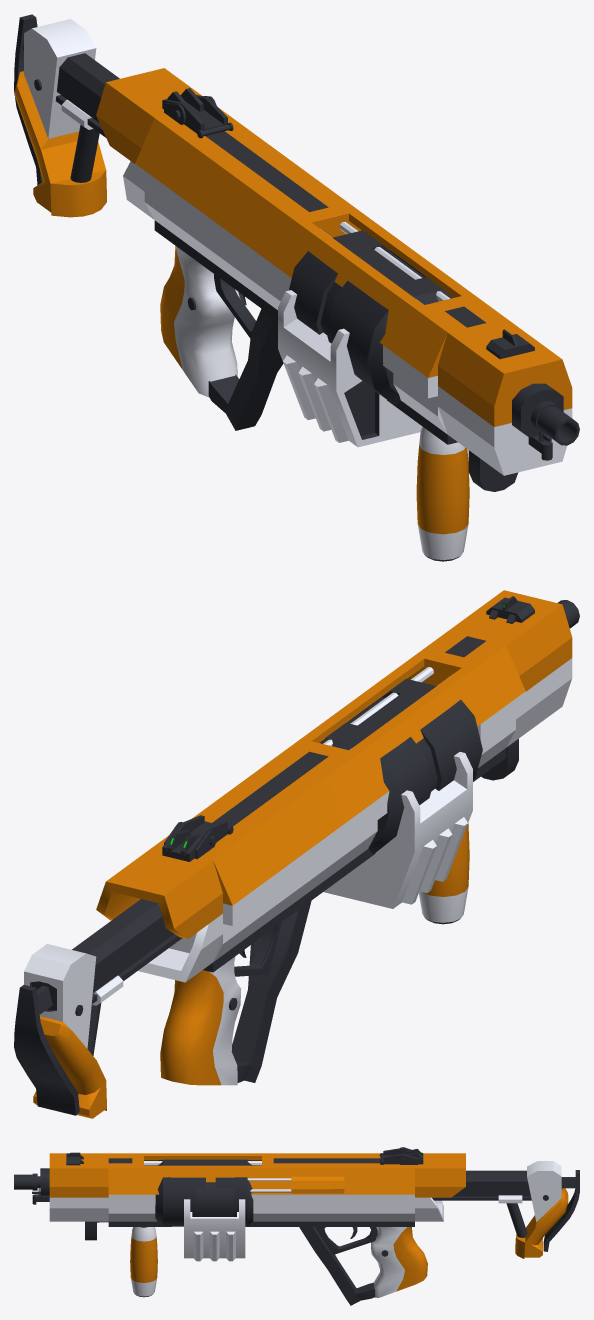
3 renders of one model, top to bottom at view 1: azimuth 30°, elevation 25°; view 2: azimuth 150°, elevation 25°; view 3: azimuth 270°, elevation 25°, orthographic. The views are drawn at different scales.
Visible parts, largest first — view 1: mergedBlocks; view 2: mergedBlocks; view 3: mergedBlocks.
Boxes of the visible parts, x1,y1,x2,y2 form: mergedBlocks: (14,14,579,561); mergedBlocks: (14,590,579,1118); mergedBlocks: (14,1147,579,1305).
Bounding box in the file's own units: 0.77 × 1.43 × 4.8.
